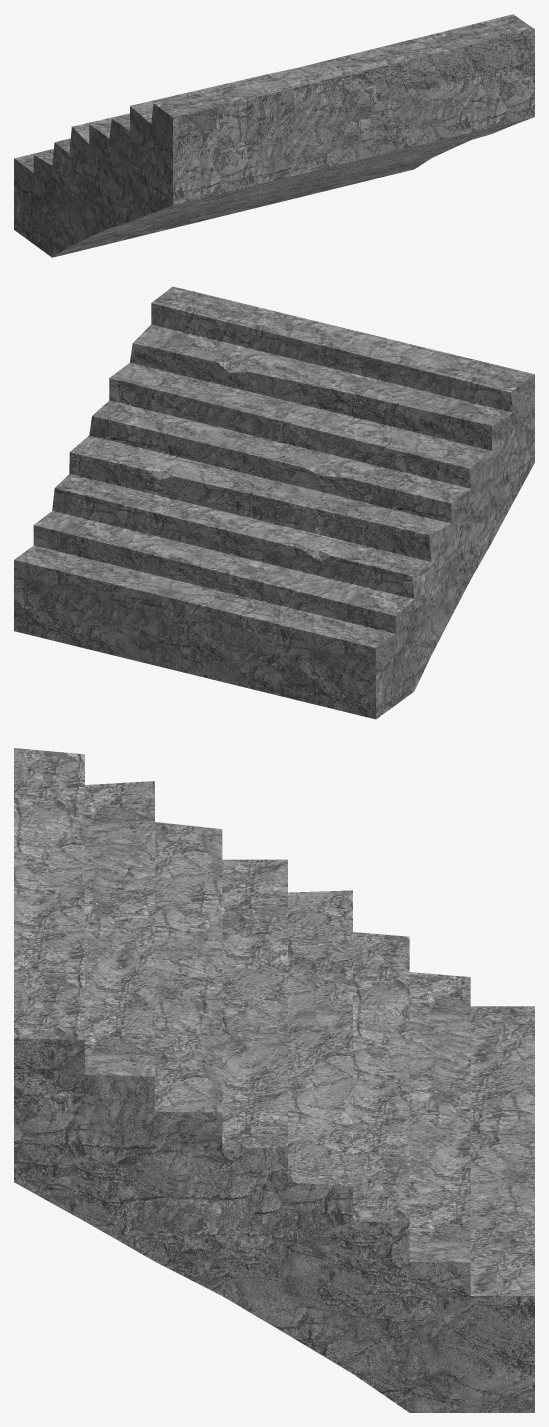
File: materials_3_stairs_4.fbx
3 renders of one model, top to bottom at view 1: azimuth 30°, elevation 25°; view 2: azimuth 150°, elevation 25°; view 3: azimuth 270°, elevation 25°, orthographic. The views are drawn at different scales.
Visible parts, largest first — view 1: materials_3_stairs_4; view 2: materials_3_stairs_4; view 3: materials_3_stairs_4.
Part boxes in pixels (left/top/right/bottom): materials_3_stairs_4: left=14, top=14, right=534, bottom=257; materials_3_stairs_4: left=14, top=286, right=534, bottom=719; materials_3_stairs_4: left=14, top=748, right=534, bottom=1412.
Bounding box in the file's own units: 234 × 141 × 178.
